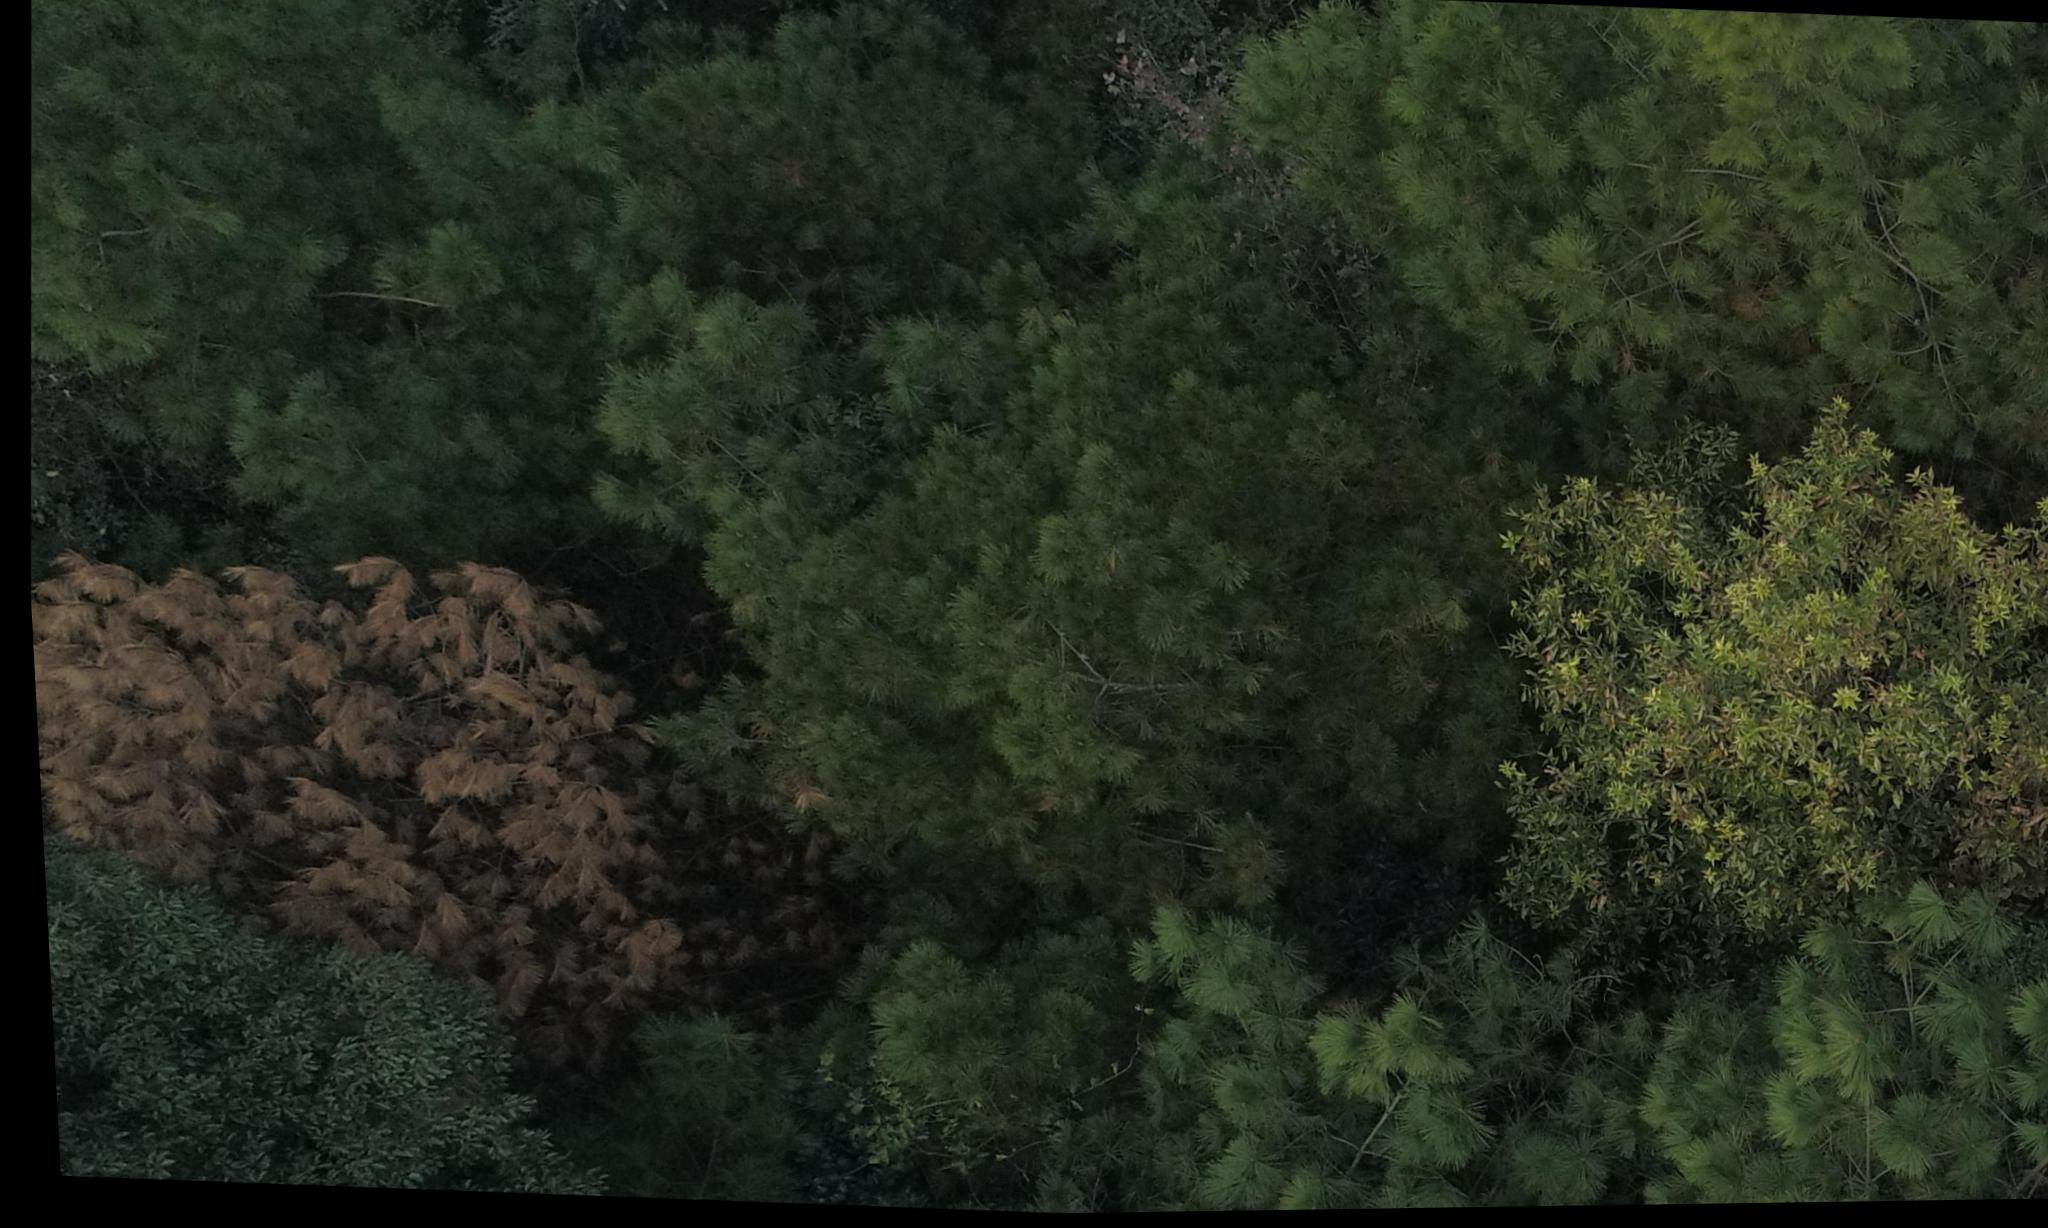heavy: (23, 535, 684, 1015)
